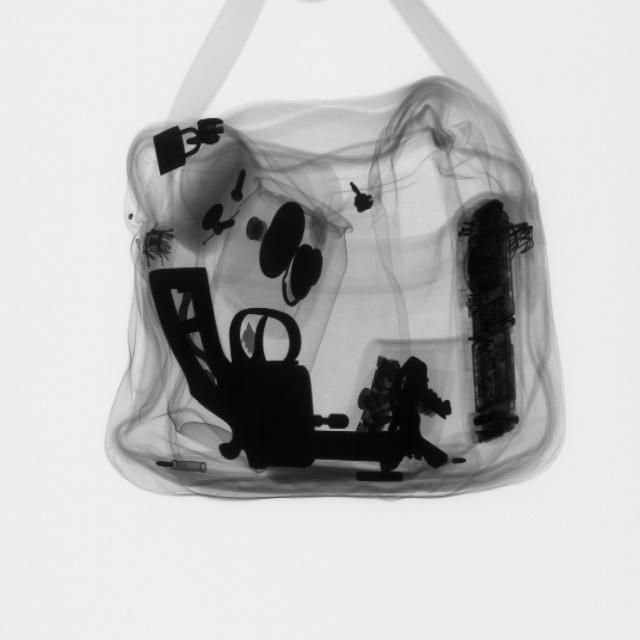GUN: (154, 256, 395, 473)
SCREW: (221, 164, 260, 209)
